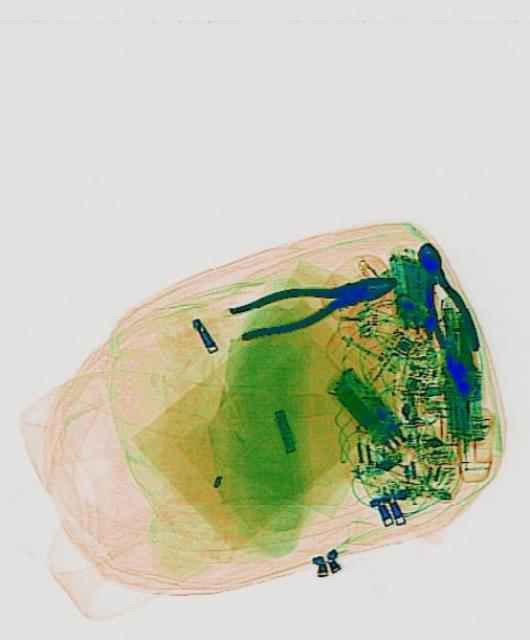Pliers: (228, 256, 400, 346), (400, 233, 480, 363)
